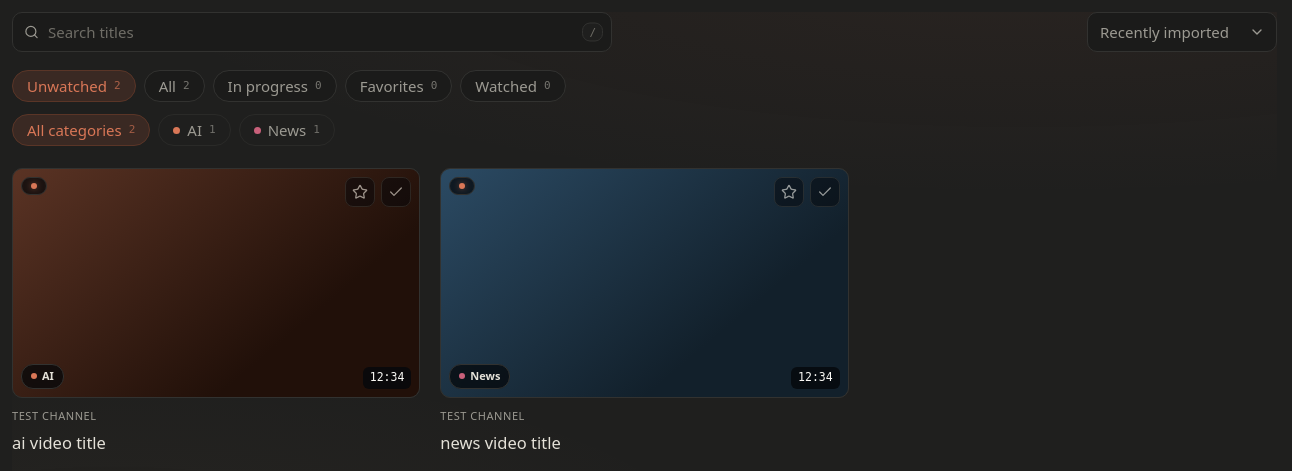
Library category chips › renders a category chip row and filters by category
The width and height of the screenshot is (1292, 471).
Check: the button "news video title" is shown, box [440, 431, 561, 454]
Click the button "AI 1" at (195, 130), box [158, 114, 231, 146]
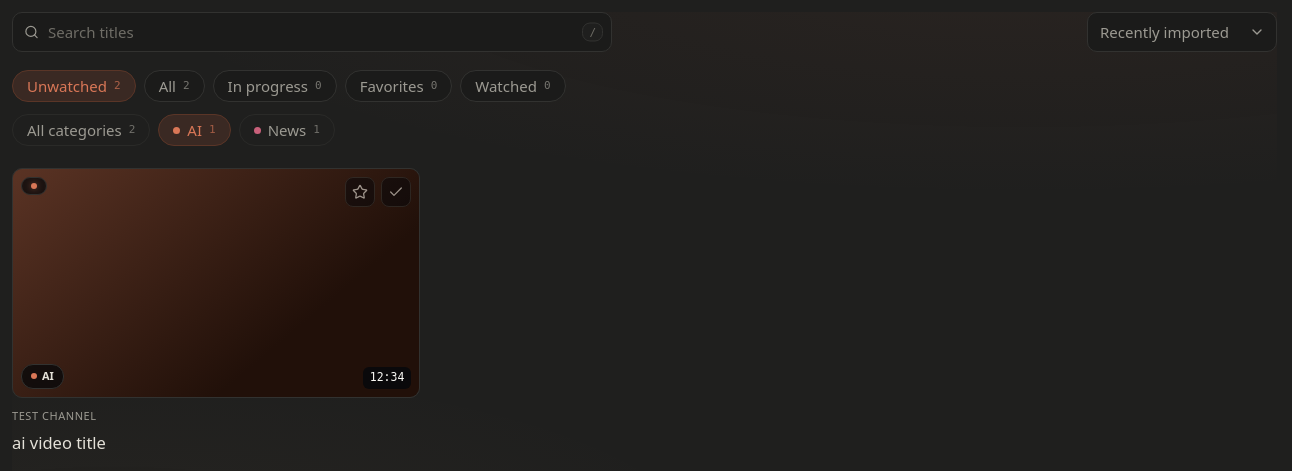
Check: the button "ai video title" is shown, box [12, 431, 106, 454]
Check: the button "news video title" is gone
